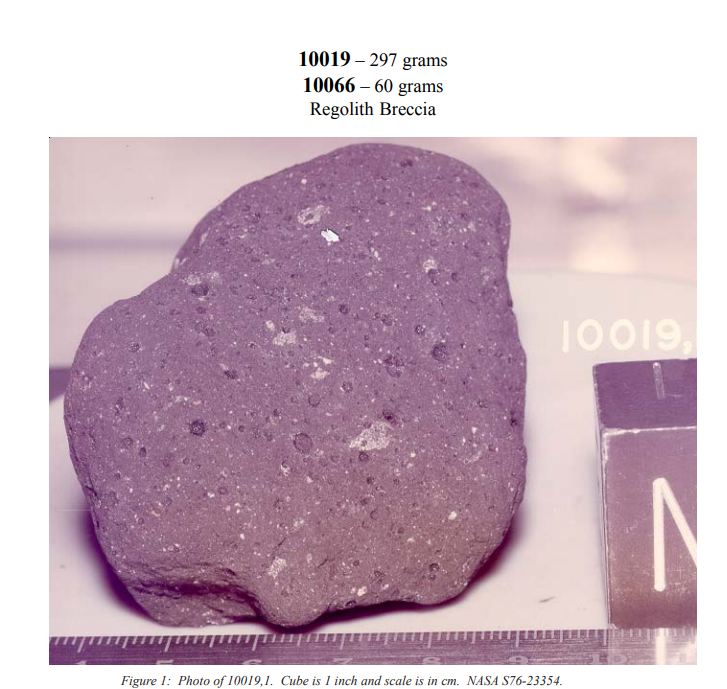Breccia: (49, 136, 551, 606)
